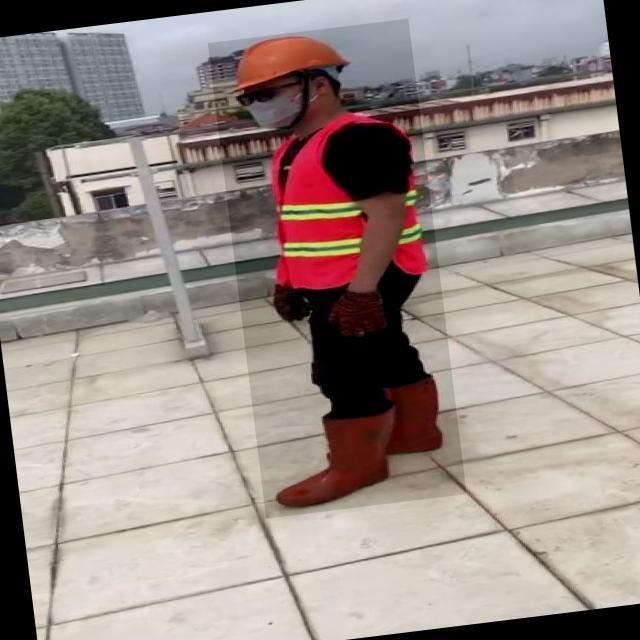Gloves: (323, 286, 390, 339), (272, 288, 312, 326)
Helmet: (229, 29, 352, 89)
Human: (208, 18, 467, 518)
Safety Boot: (265, 409, 394, 510), (377, 378, 442, 457)
Safety Vest: (258, 112, 436, 291)
